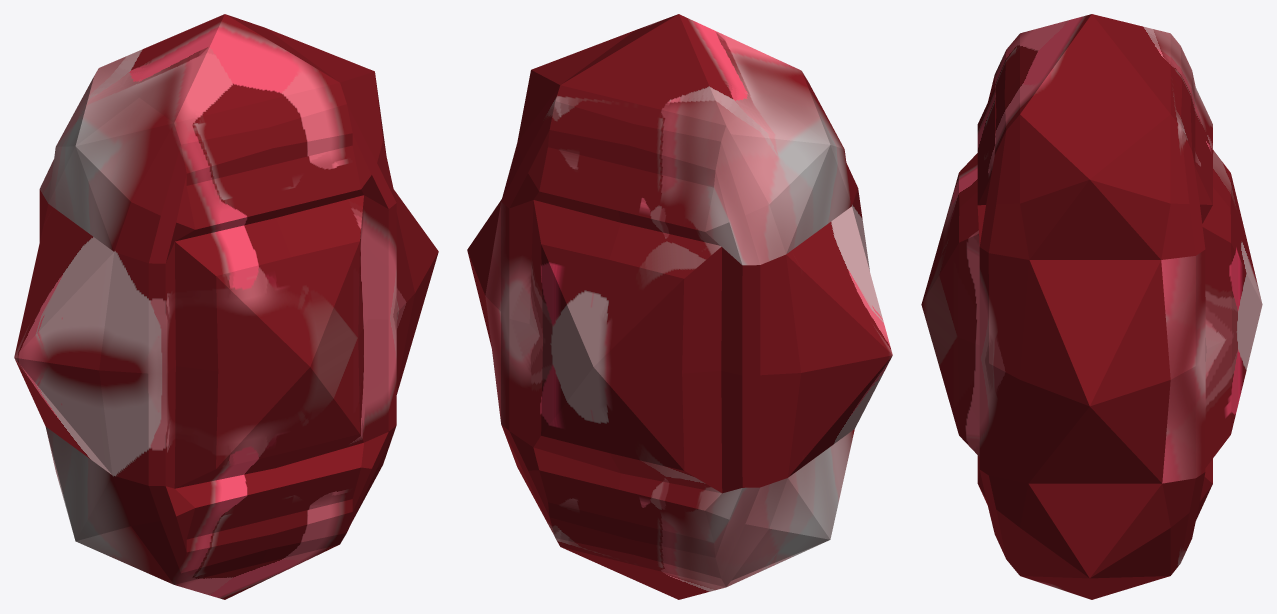
File: Red_Gem_Final_Textured.fbx
3 renders of one model, left to right at view 1: azimuth 30°, elevation 25°; view 2: azimuth 150°, elevation 25°; view 3: azimuth 270°, elevation 25°, orthographic.
Visible parts, largest first — view 1: polySurface3; view 2: polySurface3; view 3: polySurface3.
Boxes of the visible parts, box(x1,y1,x2,y2) form: polySurface3: box(14, 14, 438, 599); polySurface3: box(467, 14, 892, 599); polySurface3: box(921, 14, 1262, 599).
Size of the model in its own units: 1.8 by 2.36 by 1.25.
1 material, 1 textured.
